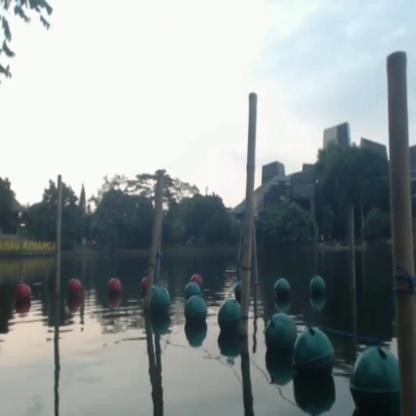green_buoy: (348, 346, 403, 415), (296, 322, 332, 396), (263, 313, 294, 360), (216, 297, 240, 339), (183, 296, 207, 331), (149, 284, 169, 322), (272, 274, 292, 306), (307, 275, 326, 303)
red_buoy: (104, 274, 123, 302), (14, 284, 32, 310), (65, 277, 82, 302)
